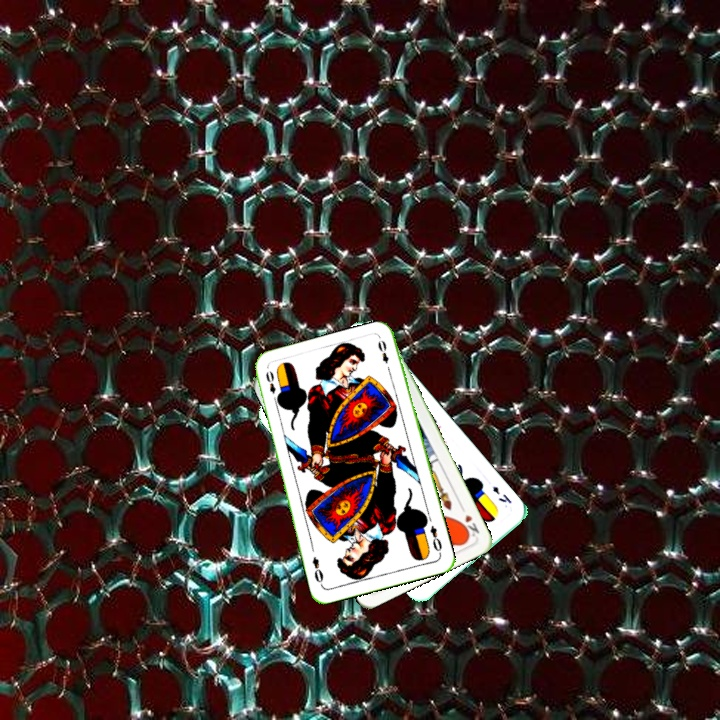EK: (489, 482, 514, 506)
EO: (262, 367, 281, 405), (426, 521, 444, 557)
HK: (456, 501, 482, 540)
